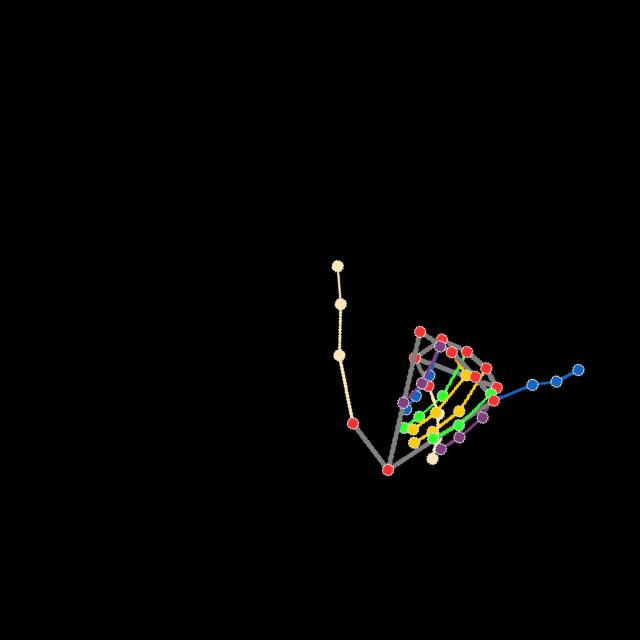skr: (325, 254, 590, 477)
